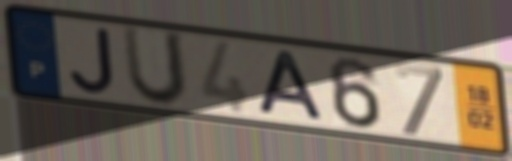4: (197, 37, 252, 117)
6: (325, 55, 384, 131)
7: (393, 60, 446, 138)
A: (257, 48, 329, 124)
J: (67, 25, 119, 97)
U: (119, 23, 190, 110)
